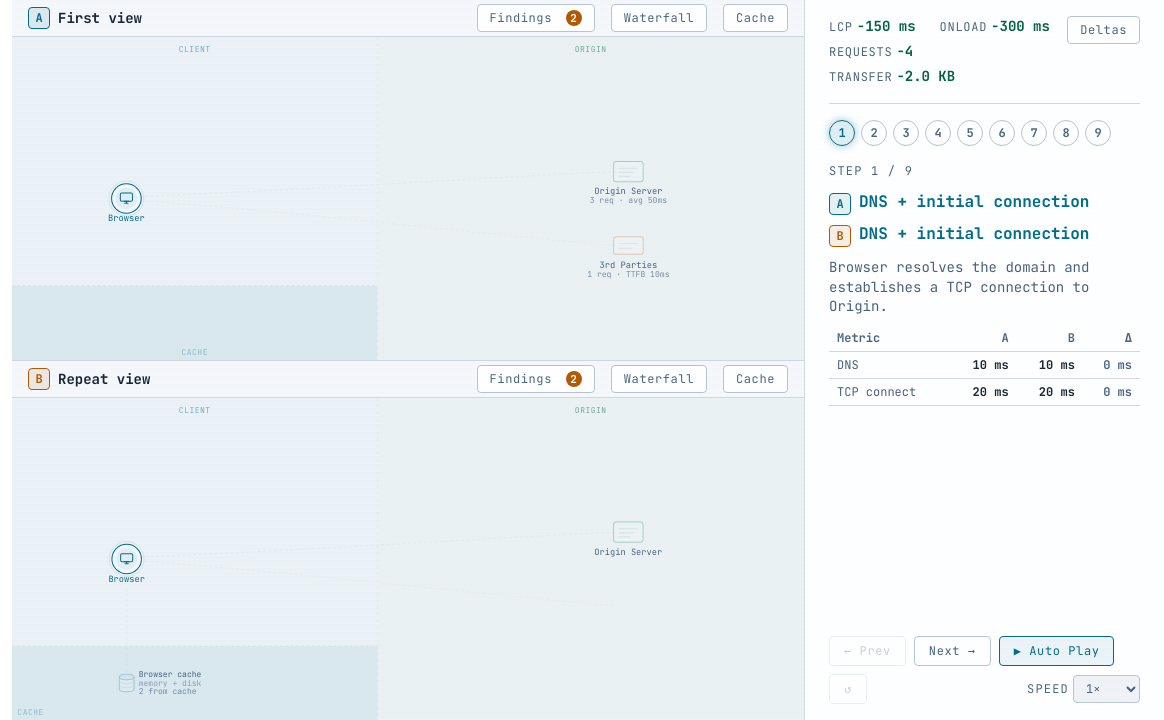
Test: CompareView › dims the side without the step's kind and keeps its previous step
Click the tab "7". click: (1034, 133)
box: [1021,120,1047,146]
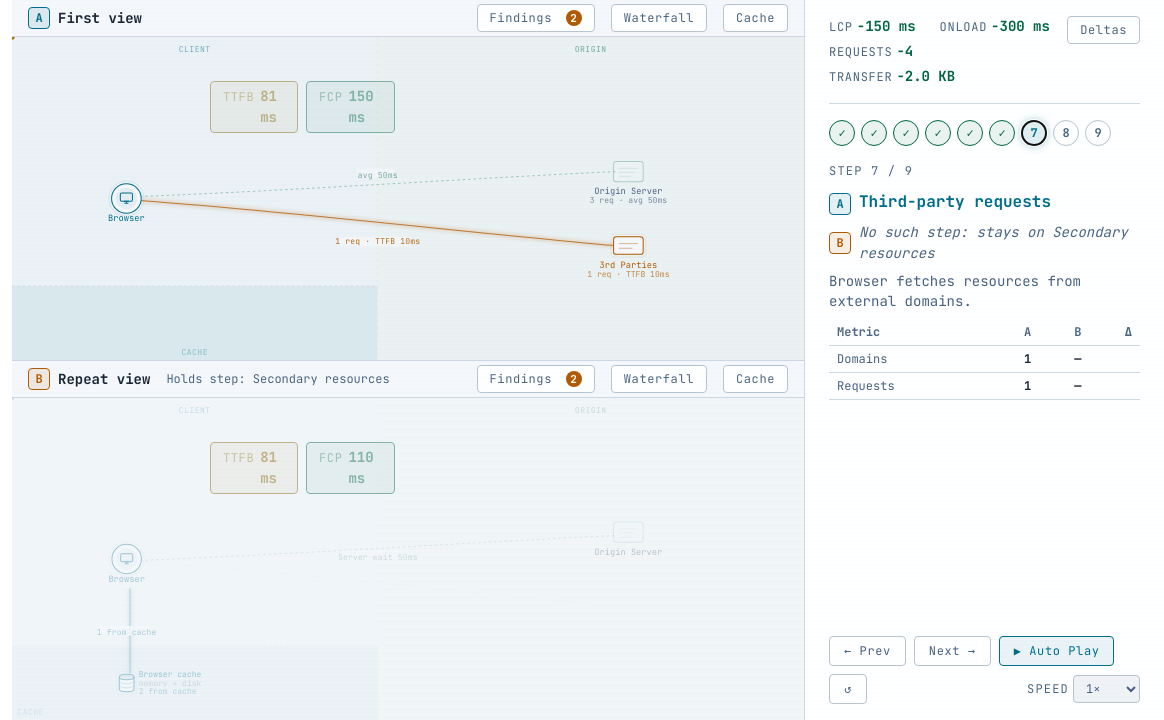
Expected: the text "Third-party requests" is shown, [859,190,1051,214]
Expected: the text "No such step: stays on Secondary resources" is shown, [859,222,1140,264]
